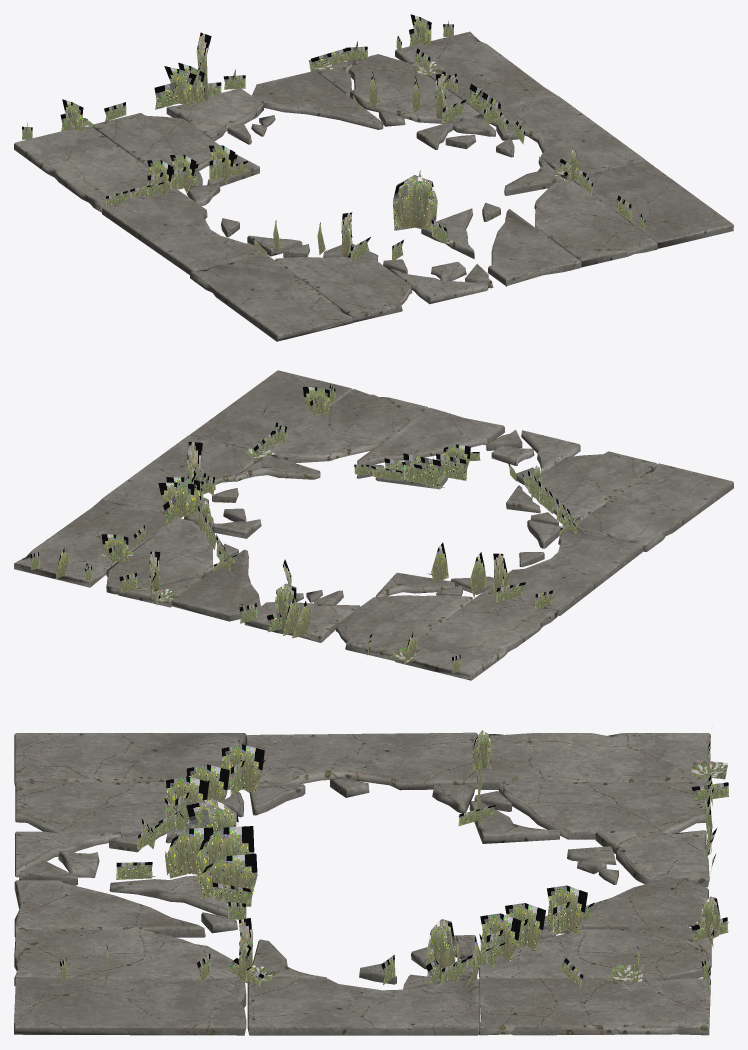
Rendered from concrete_slabs_9x9_impact.glb.
3 renders of one model, top to bottom at view 1: azimuth 30°, elevation 25°; view 2: azimuth 150°, elevation 25°; view 3: azimuth 270°, elevation 25°, orthographic. The views are drawn at different scales.
Parts seen in each view (by area): view 1: concrete_slabs_9x9_impact, cracks_grass_e_temperate (×2), cracks_grass_h_temperate (×3), cracks_grass_i_temperate; view 2: concrete_slabs_9x9_impact, cracks_grass_e_temperate (×2), cracks_grass_h_temperate (×3), cracks_grass_i_temperate; view 3: concrete_slabs_9x9_impact, cracks_grass_h_temperate (×3), cracks_grass_e_temperate (×2), cracks_grass_i_temperate.
Boxes of the visible parts, left/top/right/bottom form: concrete_slabs_9x9_impact: left=14, top=31, right=733, bottom=341; cracks_grass_e_temperate (×2): left=22, top=14, right=645, bottom=230; cracks_grass_h_temperate (×3): left=106, top=71, right=493, bottom=261; cracks_grass_i_temperate: left=393, top=170, right=455, bottom=244; concrete_slabs_9x9_impact: left=14, top=370, right=733, bottom=680; cracks_grass_e_temperate (×2): left=30, top=384, right=460, bottom=672; cracks_grass_h_temperate (×3): left=195, top=463, right=580, bottom=609; cracks_grass_i_temperate: left=354, top=440, right=480, bottom=488; concrete_slabs_9x9_impact: left=14, top=732, right=711, bottom=1035; cracks_grass_h_temperate (×3): left=137, top=730, right=594, bottom=983; cracks_grass_e_temperate (×2): left=59, top=742, right=728, bottom=1001; cracks_grass_i_temperate: left=116, top=798, right=257, bottom=919.
Size of the model in its own units: 9.01 by 1.36 by 9.3.
2 materials, 2 textured.
